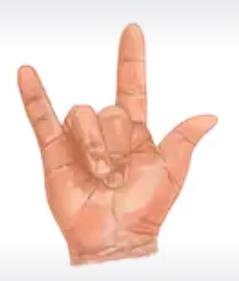back: (13, 19, 223, 233)
